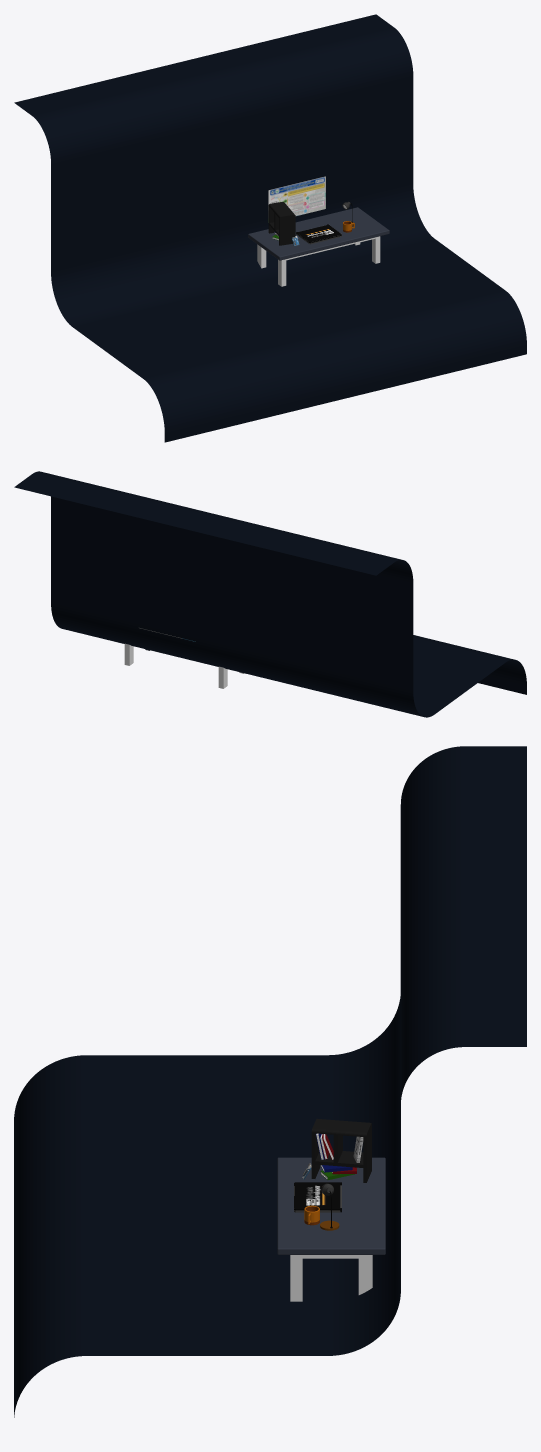
Rendered from Laptop.glb.
3 views of the same model, one above another, from view 1: azimuth 30°, elevation 25°; view 2: azimuth 150°, elevation 25°; view 3: azimuth 270°, elevation 25° (orthographic). The views are drawn at different scales.
Visible parts, largest first — view 1: Plane, Table, Poster, Rack, LaptopUpper; view 2: Plane, Table; view 3: Plane, Table, Rack, LaptopUpper.
Boxes of the visible parts, box(x1,y1,x2,y2) form: Plane: box(14, 14, 526, 442); Table: box(248, 207, 389, 286); Poster: box(268, 176, 325, 222); Rack: box(268, 201, 295, 245); LaptopUpper: box(296, 224, 341, 243); Plane: box(14, 471, 526, 717); Table: box(124, 643, 244, 688); Plane: box(14, 746, 526, 1417); Table: box(277, 1157, 385, 1301); Rack: box(311, 1118, 371, 1182); LaptopUpper: box(294, 1182, 341, 1212).
Size of the model in its own units: 395 by 239 by 284.
Materials: 64 (27 with a texture image).
